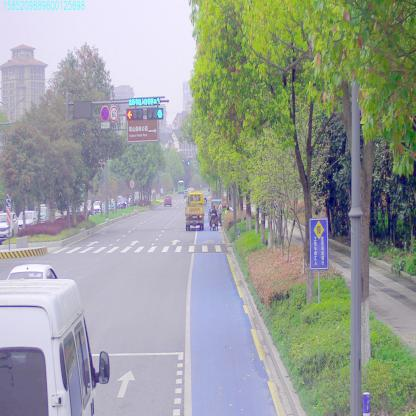traffic-light: (129, 96, 159, 104), (127, 107, 144, 121), (147, 108, 165, 120)
